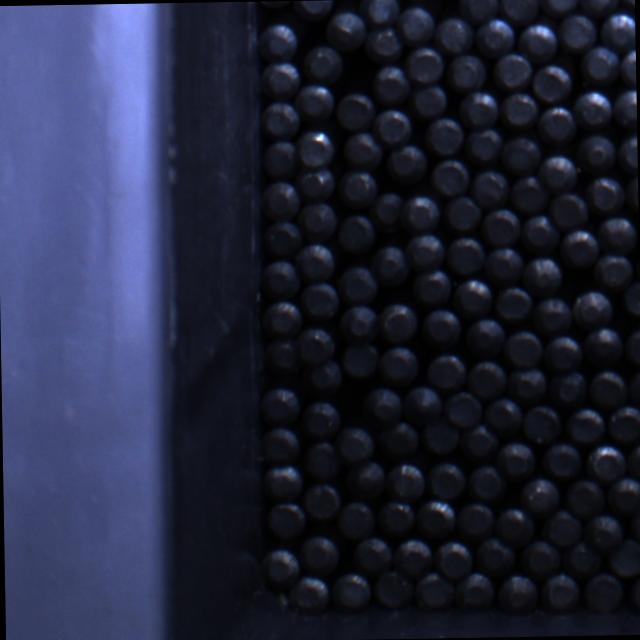tool: (496, 439, 537, 480), (287, 574, 329, 614), (476, 536, 518, 576), (392, 536, 432, 578), (497, 574, 539, 614), (494, 506, 536, 546), (260, 546, 300, 588), (326, 9, 366, 50), (378, 345, 419, 385), (582, 572, 623, 612), (378, 301, 418, 342), (584, 441, 625, 481), (519, 476, 560, 516), (387, 144, 428, 184), (452, 278, 493, 318), (573, 288, 614, 328), (583, 326, 624, 366), (476, 17, 516, 57), (518, 21, 558, 61), (564, 478, 604, 518), (434, 538, 474, 578), (502, 134, 542, 174), (522, 403, 562, 443), (404, 384, 444, 424), (336, 91, 376, 131), (454, 572, 494, 612), (300, 533, 340, 573), (422, 308, 462, 348), (597, 216, 637, 256), (334, 424, 376, 462), (262, 180, 300, 222), (468, 359, 508, 398), (414, 571, 454, 610), (336, 500, 376, 539), (387, 460, 426, 500), (332, 571, 372, 610), (587, 175, 626, 215), (580, 46, 620, 85), (416, 499, 456, 538), (538, 153, 578, 192), (401, 194, 441, 233), (372, 64, 411, 104), (294, 82, 334, 121), (345, 458, 385, 497), (374, 570, 415, 608), (519, 540, 560, 578), (398, 5, 436, 46), (582, 512, 623, 550), (521, 255, 562, 293), (362, 386, 403, 424), (262, 258, 300, 299), (377, 419, 418, 457), (371, 244, 408, 286), (354, 535, 393, 574), (339, 303, 378, 342), (259, 19, 298, 58), (557, 12, 595, 52), (428, 351, 468, 389), (566, 406, 606, 444), (532, 62, 572, 100), (542, 508, 582, 546), (482, 207, 522, 245), (494, 51, 534, 89), (558, 226, 598, 264), (562, 540, 602, 578), (446, 52, 486, 90), (300, 400, 340, 438), (261, 386, 301, 424), (264, 298, 302, 338), (304, 45, 344, 83), (343, 131, 383, 169), (267, 501, 307, 539), (304, 439, 342, 479), (466, 316, 506, 354), (588, 368, 626, 407), (432, 157, 471, 195), (373, 106, 412, 144), (426, 460, 465, 498), (506, 329, 545, 367), (540, 574, 579, 612), (303, 482, 342, 520), (458, 501, 496, 540), (406, 232, 445, 270), (297, 127, 336, 165), (262, 426, 301, 464), (262, 99, 300, 138), (543, 441, 582, 479), (459, 89, 498, 127), (261, 61, 301, 98), (262, 464, 302, 501), (600, 11, 636, 52), (436, 16, 474, 54), (300, 280, 338, 318), (426, 116, 464, 154), (340, 266, 378, 304), (512, 174, 550, 212), (578, 133, 616, 171), (537, 104, 575, 142), (574, 88, 612, 126), (337, 214, 375, 252), (484, 398, 522, 436), (298, 200, 336, 238), (521, 214, 559, 252), (443, 391, 482, 428), (472, 168, 511, 205), (510, 364, 549, 401), (532, 295, 571, 332), (594, 254, 634, 290), (420, 417, 460, 453), (548, 367, 588, 403), (339, 169, 377, 206), (446, 237, 484, 274), (298, 326, 336, 363), (378, 499, 416, 536), (406, 45, 444, 82), (468, 465, 506, 502), (296, 244, 334, 281), (264, 220, 302, 257), (466, 125, 504, 162), (366, 25, 404, 62), (413, 268, 452, 304), (460, 422, 499, 458), (342, 341, 379, 378), (550, 192, 588, 228), (486, 246, 524, 282), (499, 94, 537, 130), (545, 333, 583, 369), (496, 284, 534, 320), (300, 166, 338, 202), (606, 403, 640, 443), (444, 194, 481, 230), (606, 537, 640, 576), (411, 80, 446, 116), (607, 476, 640, 514), (265, 341, 303, 373), (264, 139, 296, 176), (310, 357, 343, 391), (375, 196, 406, 227), (614, 86, 637, 125), (459, 0, 499, 22), (501, 0, 539, 23), (618, 130, 638, 170), (291, 0, 333, 17), (622, 280, 640, 316), (620, 46, 636, 86), (539, 0, 579, 15), (626, 439, 640, 480), (578, 0, 618, 14), (626, 324, 640, 364), (629, 572, 640, 613), (628, 172, 638, 214), (629, 509, 640, 545), (619, 0, 634, 9)
